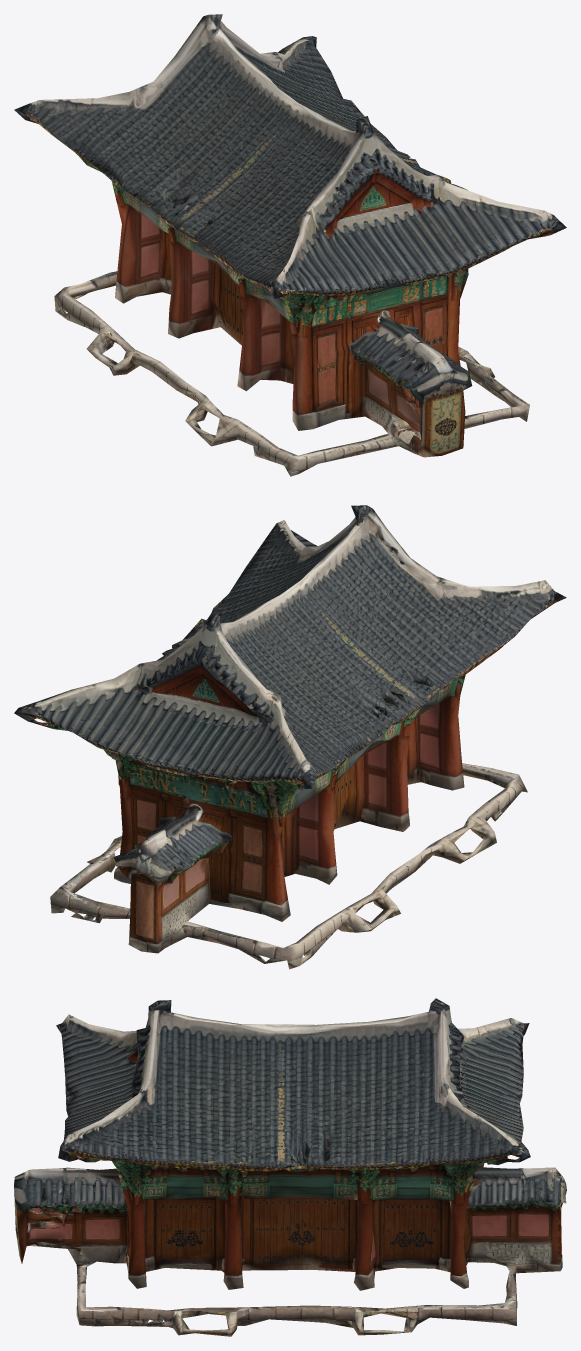
File: 경복궁_근정문.glb
3 renders of one model, top to bottom at view 1: azimuth 30°, elevation 25°; view 2: azimuth 150°, elevation 25°; view 3: azimuth 270°, elevation 25°, orthographic. The views are drawn at different scales.
Visible parts, largest first — view 1: texture_mapping; view 2: texture_mapping; view 3: texture_mapping.
Boxes of the visible parts, x1,y1,x2,y2 form: texture_mapping: (14, 14, 566, 476); texture_mapping: (14, 505, 566, 969); texture_mapping: (14, 998, 566, 1336).
Size of the model in its own units: 0.5665 by 0.5414 by 0.9876.
Materials: 1 (1 with a texture image).
